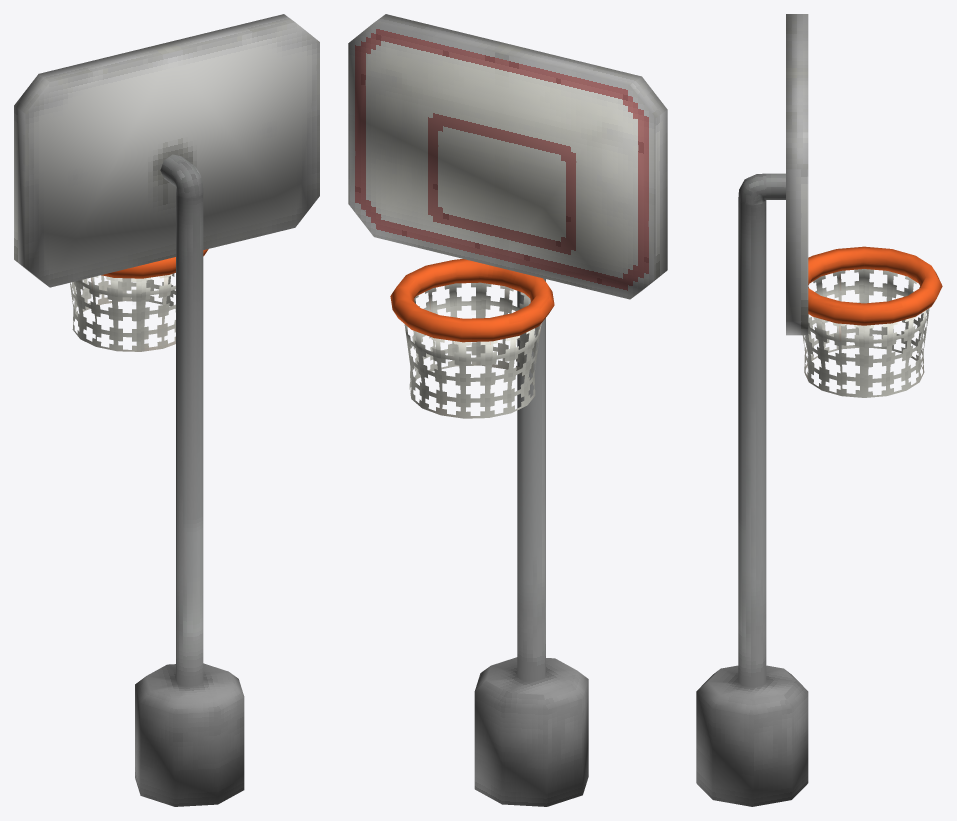
File: BBallHoop.glb
3 views of the same model, side by side, from view 1: azimuth 30°, elevation 25°; view 2: azimuth 150°, elevation 25°; view 3: azimuth 270°, elevation 25° (orthographic). The views are drawn at different scales.
Visible parts, largest first — view 1: Cylinder.020; view 2: Cylinder.020; view 3: Cylinder.020.
Boxes of the visible parts, <box> form: Cylinder.020: <box>14,14,319,806</box>; Cylinder.020: <box>348,14,667,806</box>; Cylinder.020: <box>696,14,942,806</box>.
Size of the model in its own units: 12 by 28 by 8.8.
Materials: 3 (3 with a texture image).
